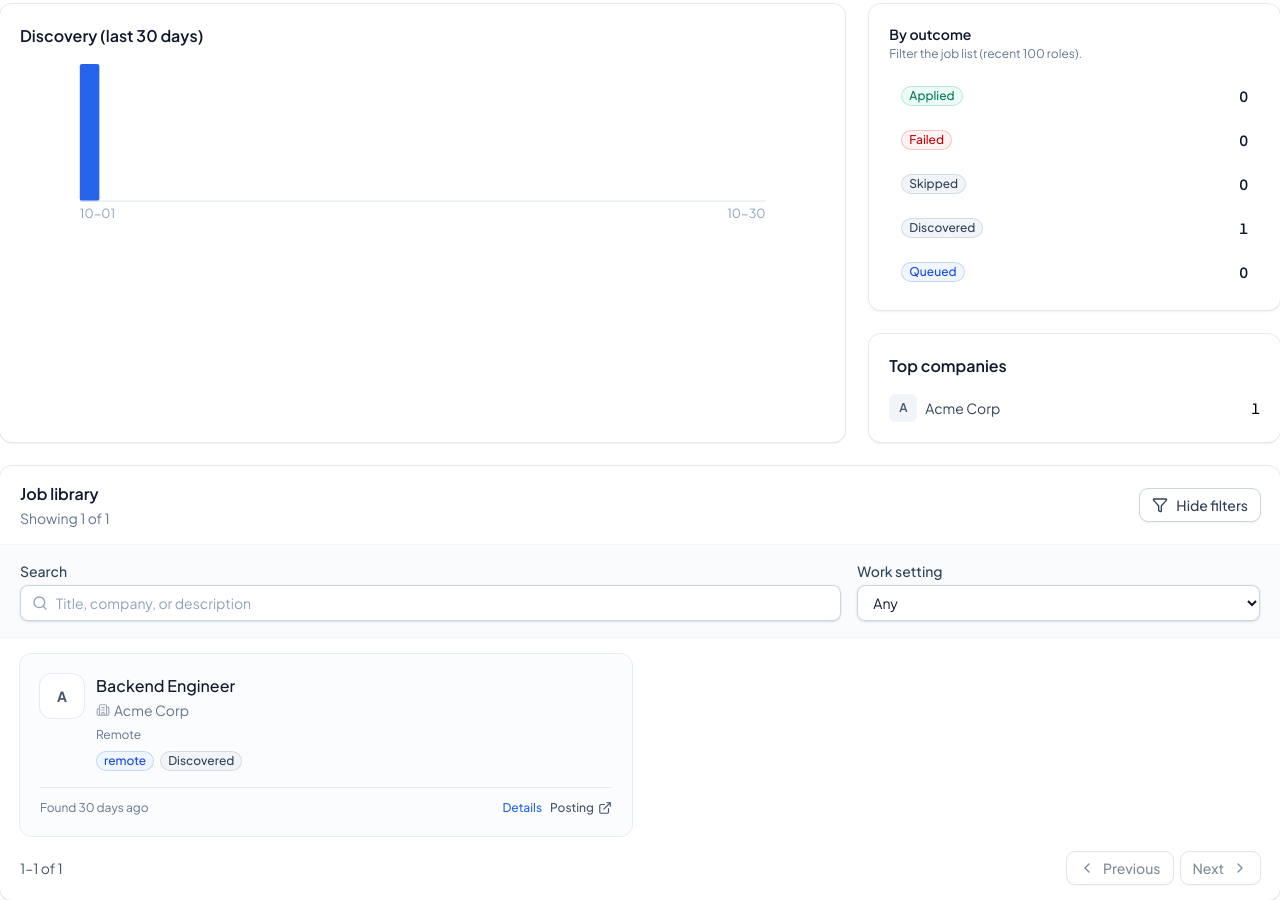
Scenario: JobsDashboard › opens application details from a job card
(page scrolled)
Click the button "Details" at x=522, y=808, box [502,800,542,816]
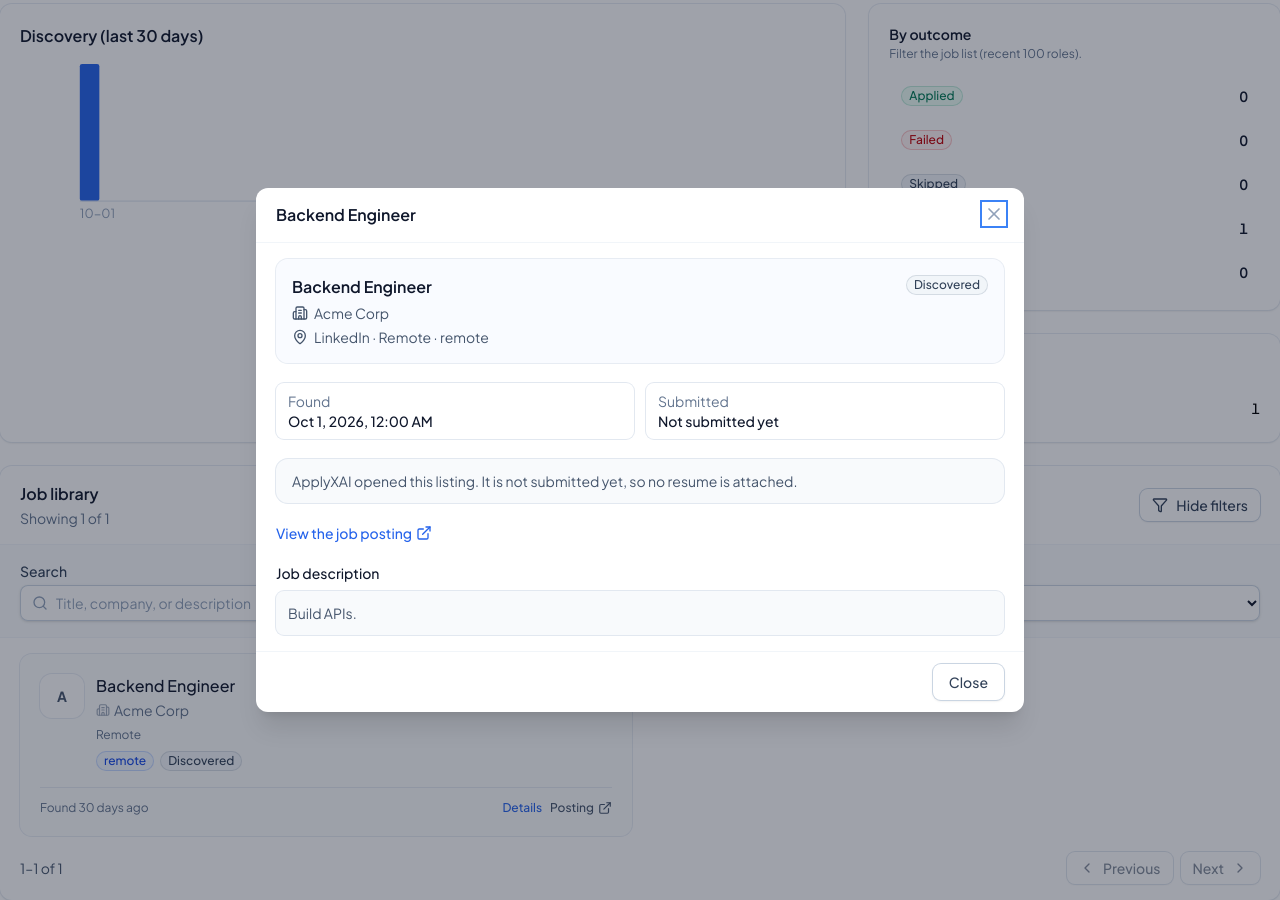
Now the heading "Backend Engineer" is shown, box [276,204,424,226]
